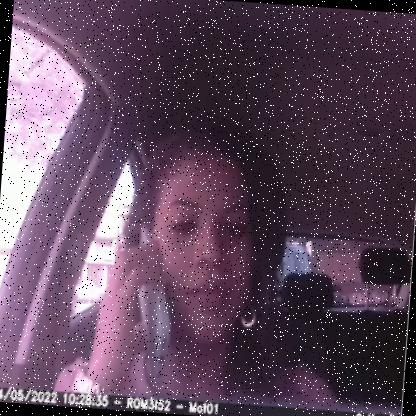phone: (117, 221, 180, 386)
